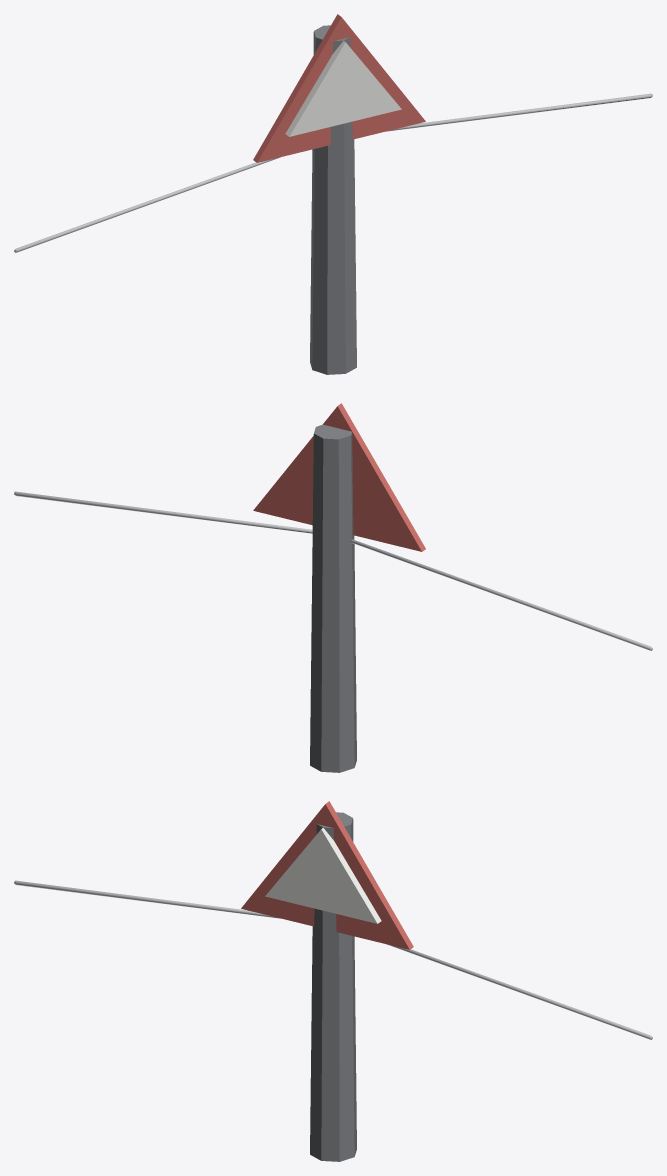
Rendered from armoured-column-and-field-camp-mine-marker-34ab59e9__23714.glb.
3 renders of one model, top to bottom at view 1: azimuth 30°, elevation 25°; view 2: azimuth 150°, elevation 25°; view 3: azimuth 330°, elevation 25°, orthographic.
Visible parts, largest first — view 1: mine-marker; view 2: mine-marker; view 3: mine-marker.
Boxes of the visible parts, x1=… form: mine-marker: x1=14, y1=14, x2=652, y2=374; mine-marker: x1=14, y1=403, x2=652, y2=772; mine-marker: x1=14, y1=801, x2=652, y2=1161.
Bounding box in the file's own units: 1.81 × 0.96 × 0.12.
